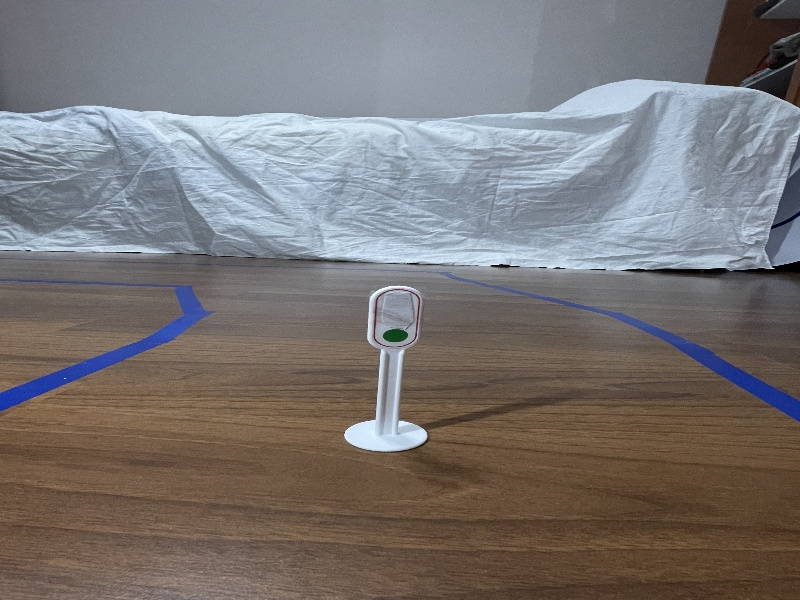semafor_verde: (356, 282, 443, 351)
